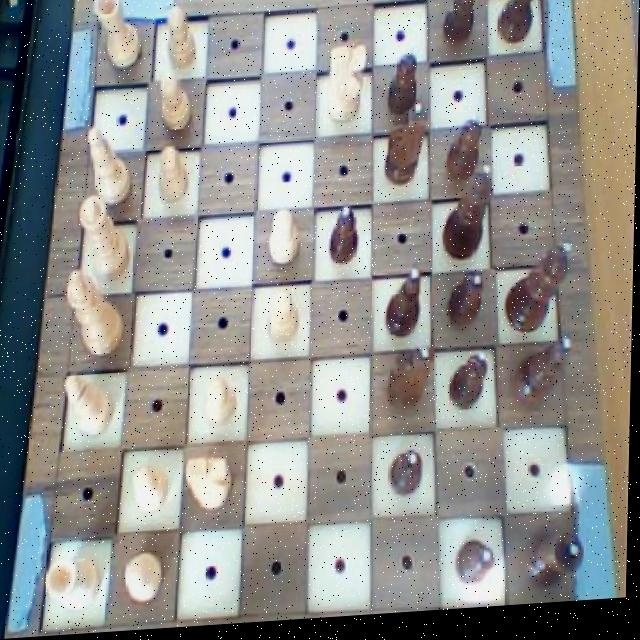bishop: (513, 342, 578, 418), (384, 265, 427, 347)
black-bishop: (503, 245, 577, 345)
black-king: (381, 103, 433, 199), (383, 344, 438, 419)
black-knight: (448, 351, 495, 420), (445, 116, 487, 193), (385, 42, 425, 120), (447, 274, 489, 338), (457, 541, 501, 594), (438, 0, 482, 52), (327, 207, 362, 272), (387, 451, 429, 504)
black-pawn: (440, 169, 500, 272)
black-queen: (521, 524, 596, 604), (493, 0, 548, 56)
black-rook: (79, 122, 136, 214), (63, 367, 120, 447)
white-bishop: (64, 264, 131, 366)
white-king: (183, 451, 241, 525), (323, 45, 371, 134)
white-knight: (130, 461, 177, 523), (157, 71, 197, 142), (263, 290, 307, 354), (165, 3, 203, 77), (153, 145, 194, 211), (123, 551, 168, 610), (266, 208, 307, 272), (201, 375, 242, 436)
white-pawn: (72, 193, 137, 293)
white-queen: (42, 546, 112, 621), (92, 0, 149, 78)
